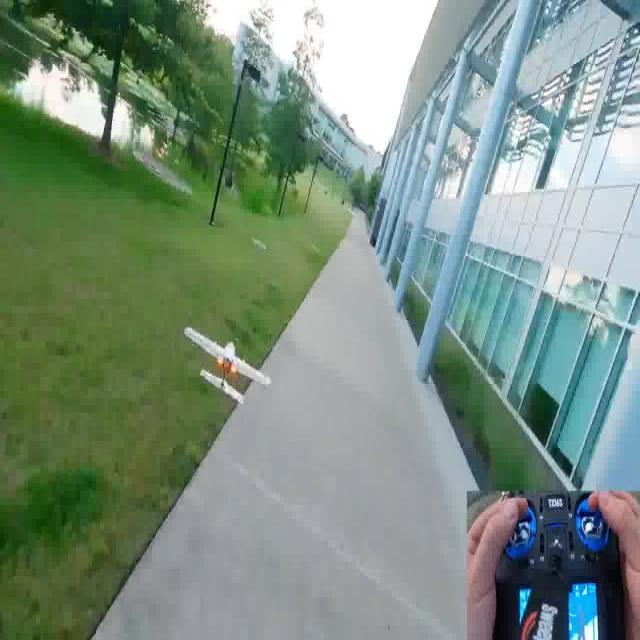iha: (212, 348, 248, 374)
